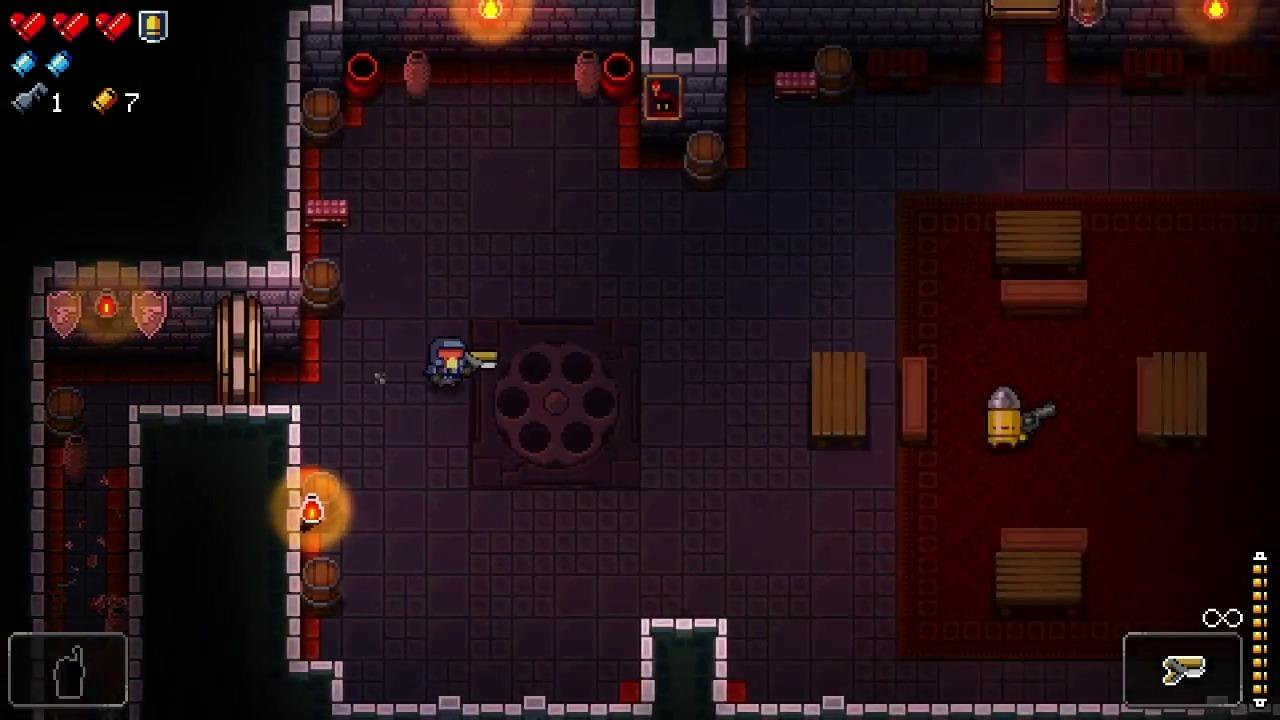bullet_kin: (985, 386, 1025, 451)
locked_door: (213, 290, 263, 406)
player: (426, 334, 469, 392)
table: (994, 552, 1082, 619), (1150, 352, 1206, 451), (995, 211, 1083, 273), (811, 352, 866, 448)
teleporter: (470, 317, 642, 492)
